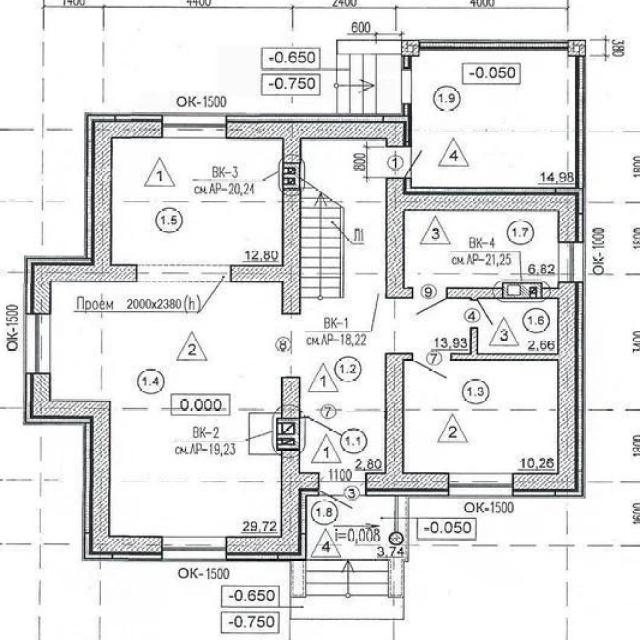Corridors: (301, 140, 385, 472), (412, 50, 576, 188), (308, 496, 393, 557), (479, 300, 557, 352), (405, 299, 470, 353)
Doors: (319, 473, 366, 513), (137, 265, 230, 282), (386, 146, 425, 177), (282, 314, 300, 377), (412, 288, 447, 319), (411, 354, 452, 380), (386, 297, 404, 353), (470, 299, 497, 327), (402, 69, 412, 103)
LBwalls: (225, 112, 412, 316), (23, 111, 163, 314), (22, 373, 163, 562), (386, 178, 586, 299), (227, 376, 320, 561), (513, 282, 586, 499), (365, 352, 449, 498), (388, 497, 410, 598), (337, 40, 402, 54), (290, 560, 305, 597), (567, 39, 587, 56), (401, 40, 420, 56)
Offices: (51, 281, 281, 537), (112, 137, 281, 263), (405, 361, 557, 473), (404, 212, 558, 288)
Stairs: (290, 557, 405, 620), (333, 53, 402, 114)
Walls: (450, 327, 559, 360), (446, 280, 558, 303), (574, 56, 586, 189), (418, 40, 567, 50), (401, 56, 412, 69), (400, 103, 412, 114), (405, 287, 412, 298), (404, 353, 413, 360)
Windows: (161, 536, 227, 561), (163, 112, 226, 138), (449, 473, 512, 498), (24, 314, 50, 374), (558, 242, 585, 282)
